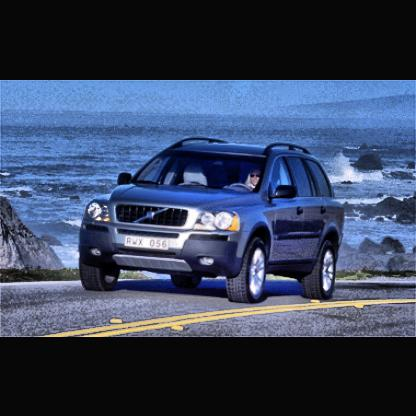Volvo XC90 SUV 2007: (79, 138, 347, 306)
